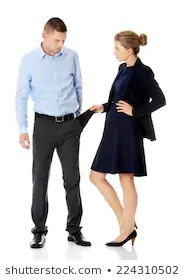F_dress pants: (28, 108, 84, 236)
F_shirt: (17, 42, 89, 130)
